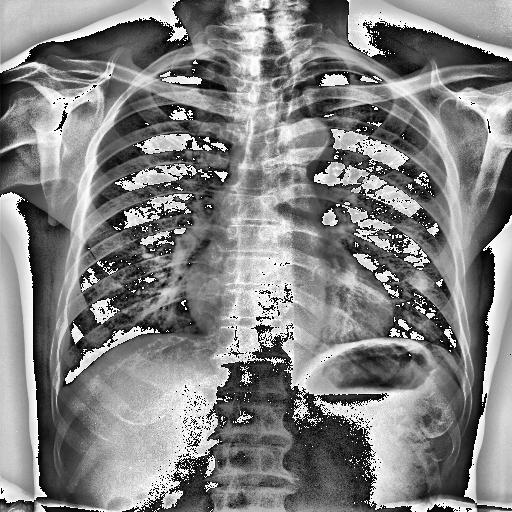0- Aortic enlargement: (277, 114, 335, 180), (276, 118, 335, 168), (280, 118, 334, 166)
11- Pleural thickening: (302, 56, 356, 68), (162, 59, 204, 70)
3- Cardiomegaly: (184, 264, 394, 346)
